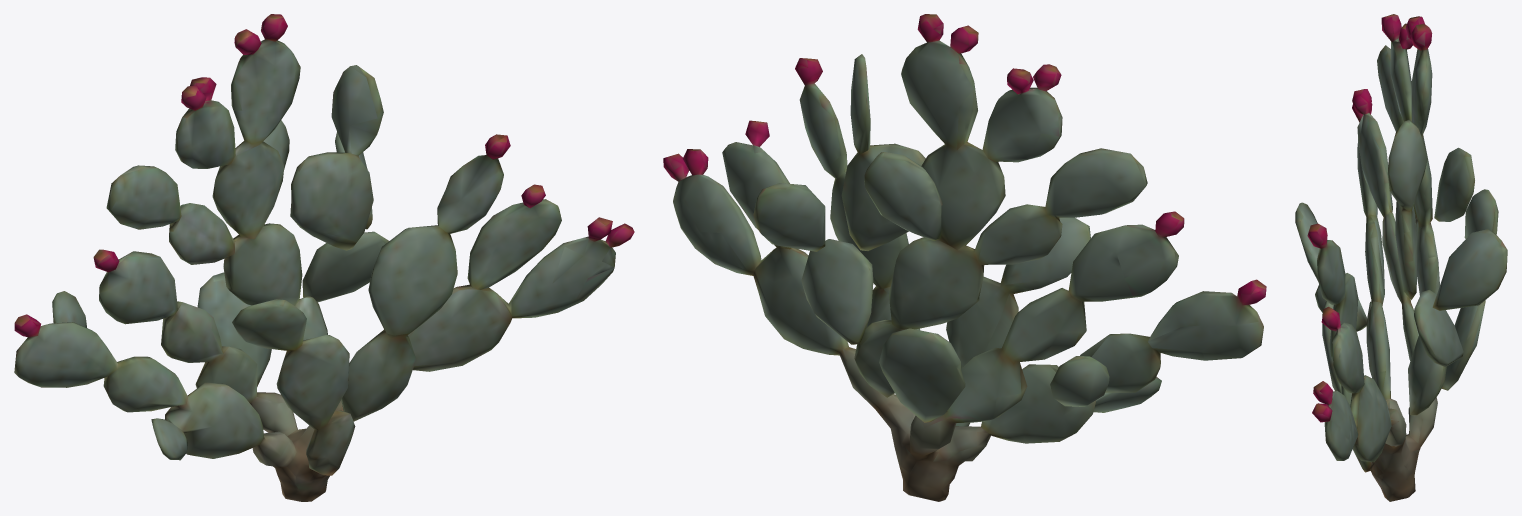
The model's file is prickly_pear.glb.
3 renders of one model, left to right at view 1: azimuth 30°, elevation 25°; view 2: azimuth 150°, elevation 25°; view 3: azimuth 270°, elevation 25°, orthographic. The views are drawn at different scales.
Parts seen in each view (by area): view 1: LO.001; view 2: LO.001; view 3: LO.001.
Part boxes in pixels (x1=…): LO.001: x1=14, y1=14, x2=634, y2=501; LO.001: x1=663, y1=14, x2=1266, y2=501; LO.001: x1=1295, y1=14, x2=1507, y2=501.
Size of the model in its own units: 1.97 by 1.5 by 0.6245.
Materials: 1 (1 with a texture image).
